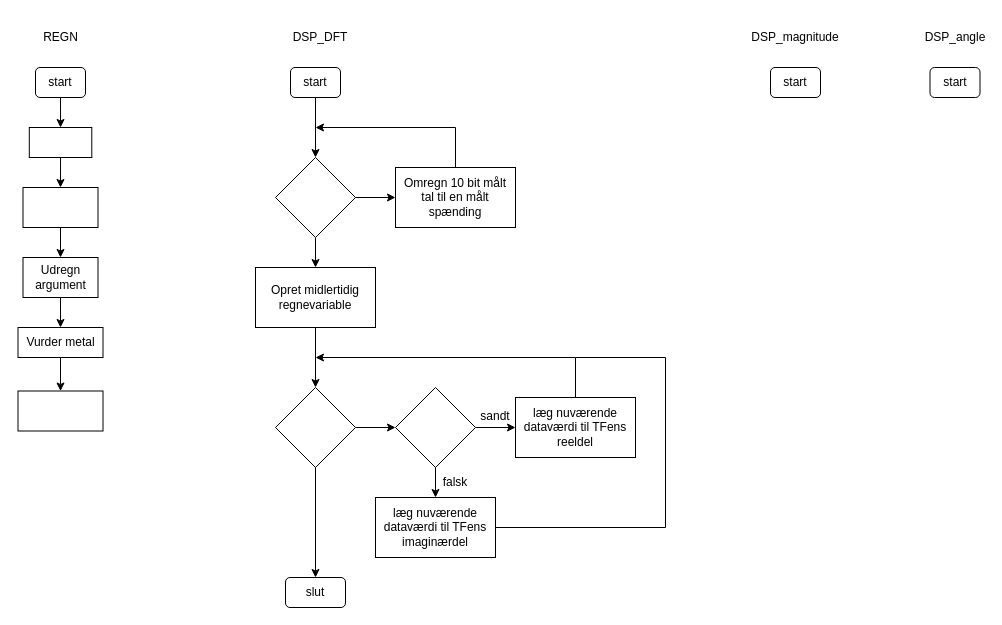
This 1002x625 diagram has some shape labels left out. The centre of each missing label's shape, as x and y in pixels:
"DFT" goes at point (60, 142).
"For alle målværdier" goes at point (315, 197).
"For n<= antal data" goes at point (315, 427).
"If n = lige" goes at point (435, 427).
"Next state logik" goes at point (60, 410).
"Udregn magnitude" goes at point (60, 207).
